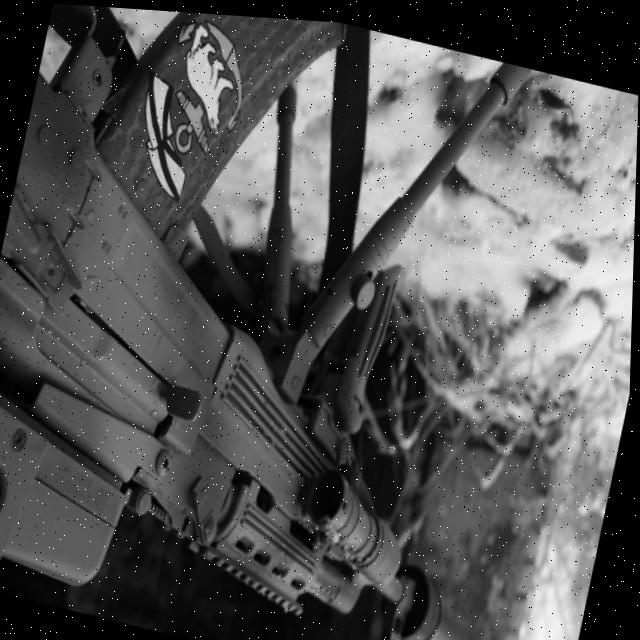firearm: (0, 0, 589, 640)
